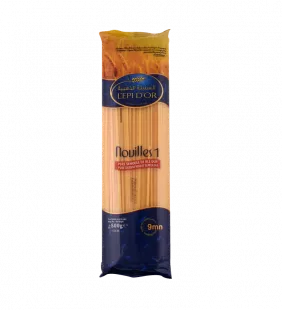L'EPI D'OR: (92, 20, 180, 284)
